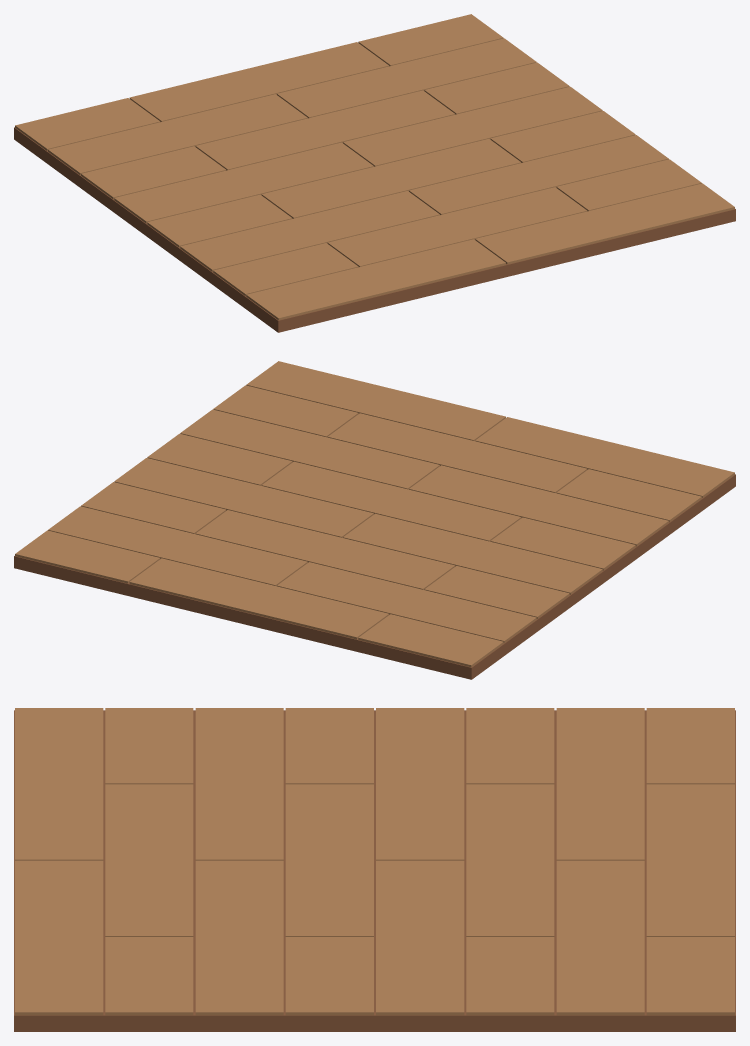
The model's file is bedroom-oak-floor.glb.
3 views of the same model, one above another, from view 1: azimuth 30°, elevation 25°; view 2: azimuth 150°, elevation 25°; view 3: azimuth 270°, elevation 25° (orthographic). The views are drawn at different scales.
Parts seen in each view (by area): view 1: bedroom-oak-floor / Oak.004, bedroom-oak-floor / Oak endgrain.004; view 2: bedroom-oak-floor / Oak.004, bedroom-oak-floor / Oak endgrain.004; view 3: bedroom-oak-floor / Oak.004, bedroom-oak-floor / Oak endgrain.004.
Part boxes in pixels (x1,y1,x2,y2): bedroom-oak-floor / Oak.004: (15,14,734,320); bedroom-oak-floor / Oak endgrain.004: (14,127,735,332); bedroom-oak-floor / Oak.004: (15,361,734,667); bedroom-oak-floor / Oak endgrain.004: (14,474,735,679); bedroom-oak-floor / Oak.004: (15,708,734,1015); bedroom-oak-floor / Oak endgrain.004: (14,710,735,1031).
Bounding box in the file's own units: 4 × 0.118 × 4.
